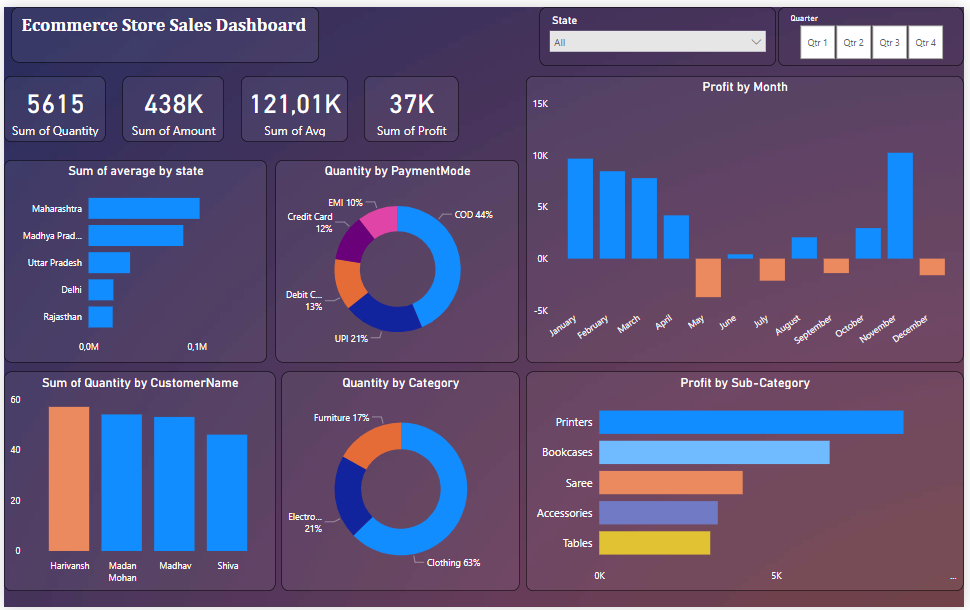

This screenshot's page, from the dashboard's own definition file:
{"tool":"powerbi","page":{"name":"Page 1","canvas":[1280,800],"ordinal":0},"visuals":[{"type":"textbox","box":[9.4,0,410.1,73.7],"z":0},{"type":"columnChart","title":"Profit by Month","fields":{"Category":["Orders.Order Date.Variation.Date Hierarchy.Month"],"Y":["Details.Profit"]},"box":[696,91.9,583.4,382.7],"z":1000},{"type":"barChart","title":"Profit by Sub-Category","fields":{"Category":["Details.Sub-Category"],"Y":["Details.Profit"]},"box":[696,485.9,583.4,292.6],"z":2000},{"type":"donutChart","title":"Quantity by Category","fields":{"Category":["Details.Category"],"Y":["Details.Quantity"]},"box":[369.6,485.9,317,292.6],"z":3000},{"type":"donutChart","title":"Quantity by PaymentMode","fields":{"Category":["Details.PaymentMode"],"Y":["Details.Quantity"]},"box":[362.1,204.5,324.5,270.1],"z":4000},{"type":"card","fields":{"Values":["Details.Amount"]},"box":[157.6,91.9,135.1,88.2],"z":4001},{"type":"card","fields":{"Values":["Details.Quantity"]},"box":[0,91.9,135.1,88.2],"z":4002},{"type":"card","fields":{"Values":["Details.Profit"]},"box":[480.2,91.9,125.7,88.2],"z":4003},{"type":"card","fields":{"Values":["Details.Avg"]},"box":[315.2,91.9,142.6,88.2],"z":4004},{"type":"barChart","title":"Sum of average by state","fields":{"Category":["Orders.State"],"Y":["Details.Amount"]},"box":[0,204.5,350.8,270.1],"z":4005},{"type":"columnChart","fields":{"Category":["Orders.CustomerName"],"Y":["Details.Quantity"]},"box":[0,485.9,362.1,292.6],"z":4006},{"type":"slicer","fields":{"Values":["Orders.Order Date.Variation.Date Hierarchy.Quarter"]},"box":[1031.8,0,247.6,78.8],"z":4007},{"type":"slicer","fields":{"Values":["Orders.State"]},"box":[714.7,0,315.2,78.8],"z":4008}]}

Visuals, with their boxes in screenshot pixels (x1, y1, x2, y2), scaled from the page's 1280x800 canvas onto the 970x610 screenshot:
textbox: l=7, t=0, r=318, b=56
"Profit by Month" columnChart: l=527, t=70, r=969, b=362
"Profit by Sub-Category" barChart: l=527, t=370, r=969, b=594
"Quantity by Category" donutChart: l=280, t=370, r=520, b=594
"Quantity by PaymentMode" donutChart: l=274, t=156, r=520, b=362
card - Details.Amount: l=119, t=70, r=222, b=137
card - Details.Quantity: l=0, t=70, r=102, b=137
card - Details.Profit: l=364, t=70, r=459, b=137
card - Details.Avg: l=239, t=70, r=347, b=137
"Sum of average by state" barChart: l=0, t=156, r=266, b=362
columnChart - Orders.CustomerName x Details.Quantity: l=0, t=370, r=274, b=594
slicer - Orders.Order Date.Variation.Date Hierarchy.Quarter: l=782, t=0, r=969, b=60
slicer - Orders.State: l=542, t=0, r=780, b=60
